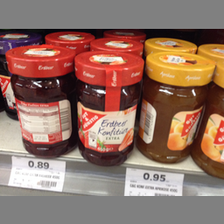jam: (138, 51, 216, 163), (5, 44, 78, 159), (74, 50, 145, 168)
